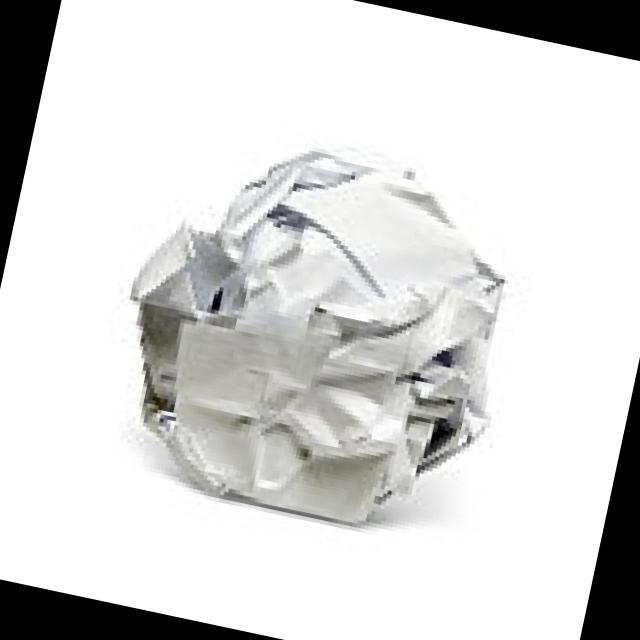electronic: (88, 108, 536, 549)
